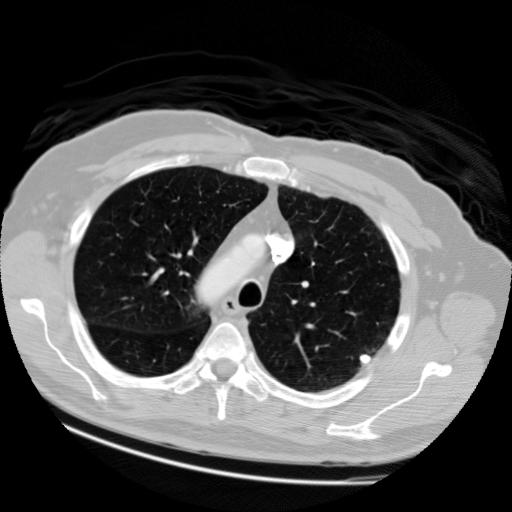nodule: (358, 350, 377, 369)
